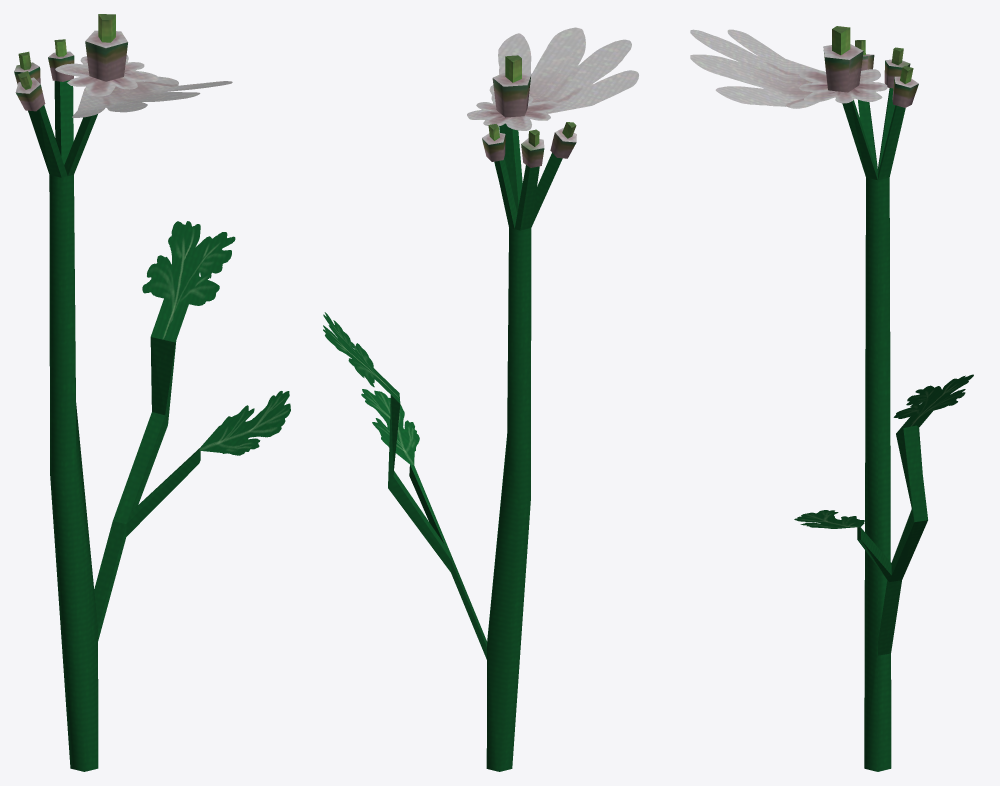
The model's file is Corriander.fbx.
The picture shows the model from 3 angles, left to right: view 1: azimuth 30°, elevation 25°; view 2: azimuth 150°, elevation 25°; view 3: azimuth 270°, elevation 25°; orthographic projection. The views are drawn at different scales.
Visible parts, largest first — view 1: Plane005; view 2: Plane005; view 3: Plane005.
Part boxes in pixels (left/top/right/bottom): Plane005: left=14, top=14, right=290, bottom=771; Plane005: left=323, top=27, right=638, bottom=771; Plane005: left=690, top=26, right=973, bottom=771.
Bounding box in the file's own units: 88.48 × 246 × 89.41.
